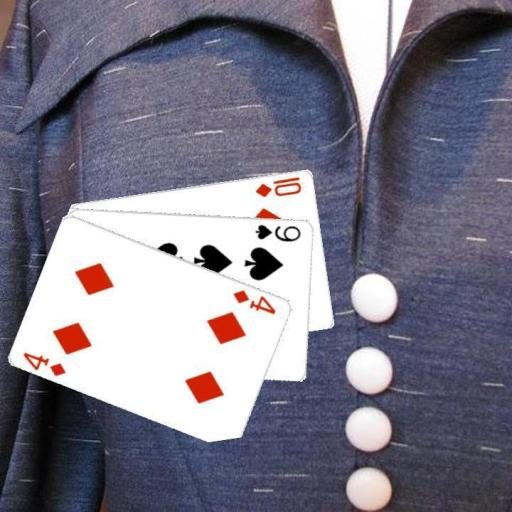card-corner: (230, 286, 278, 316), (20, 348, 68, 378), (252, 173, 304, 198), (252, 221, 303, 243)
